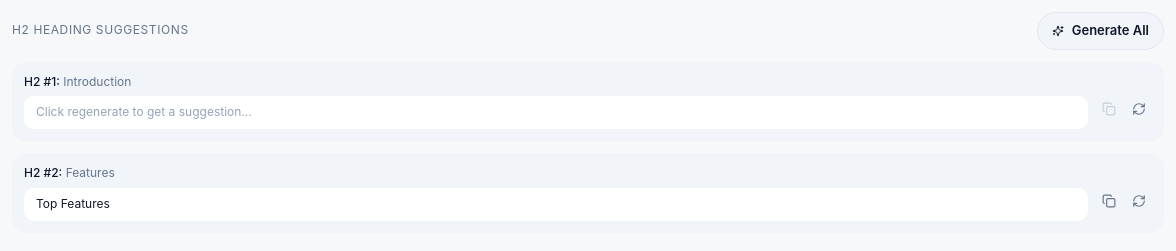
Test: H2SelectionList inline failure messages › clears an item's failure once it regenerates successfully
Click the 1st button titled "Regenerate" at (1139, 109), box [1126, 96, 1152, 122]
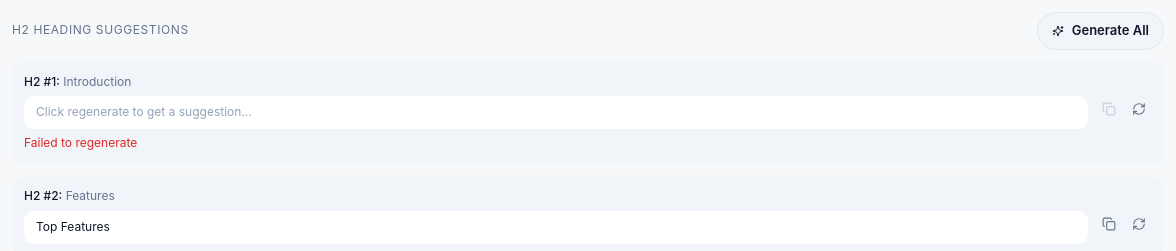
Expected: the message "Failed to regenerate" is shown, [24, 135, 137, 150]
Click the 1st button titled "Regenerate" at (1139, 109), box [1126, 96, 1152, 122]
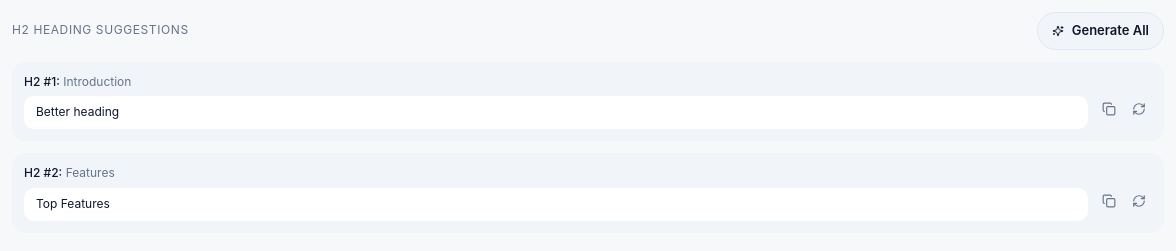
Expected: the message "Failed to regenerate" is gone
Expected: the text box below "Introduction" holds "Better heading", [24, 96, 1088, 129]
